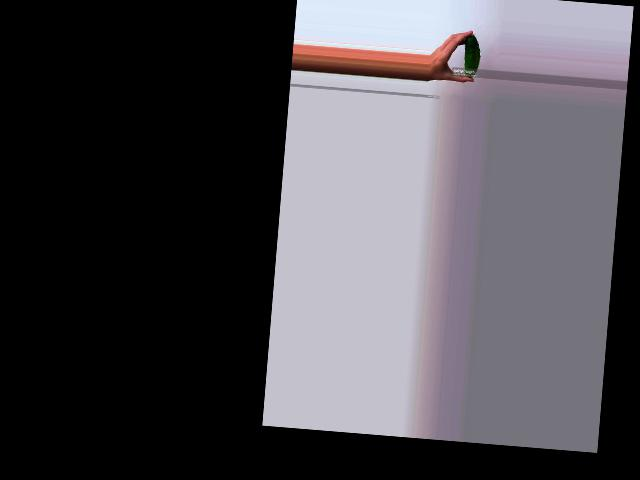cucumber: (462, 34, 482, 78)
